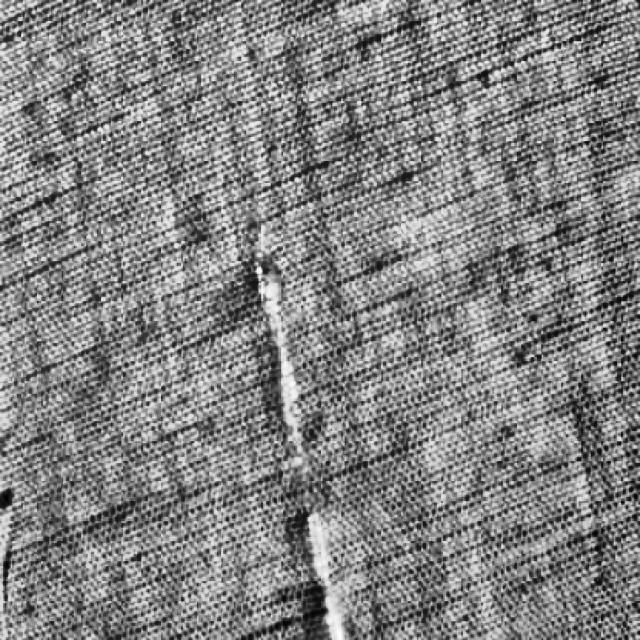thread_error: (231, 215, 363, 640)
